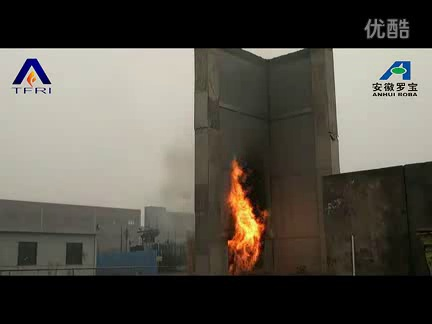fire: (218, 157, 270, 276)
